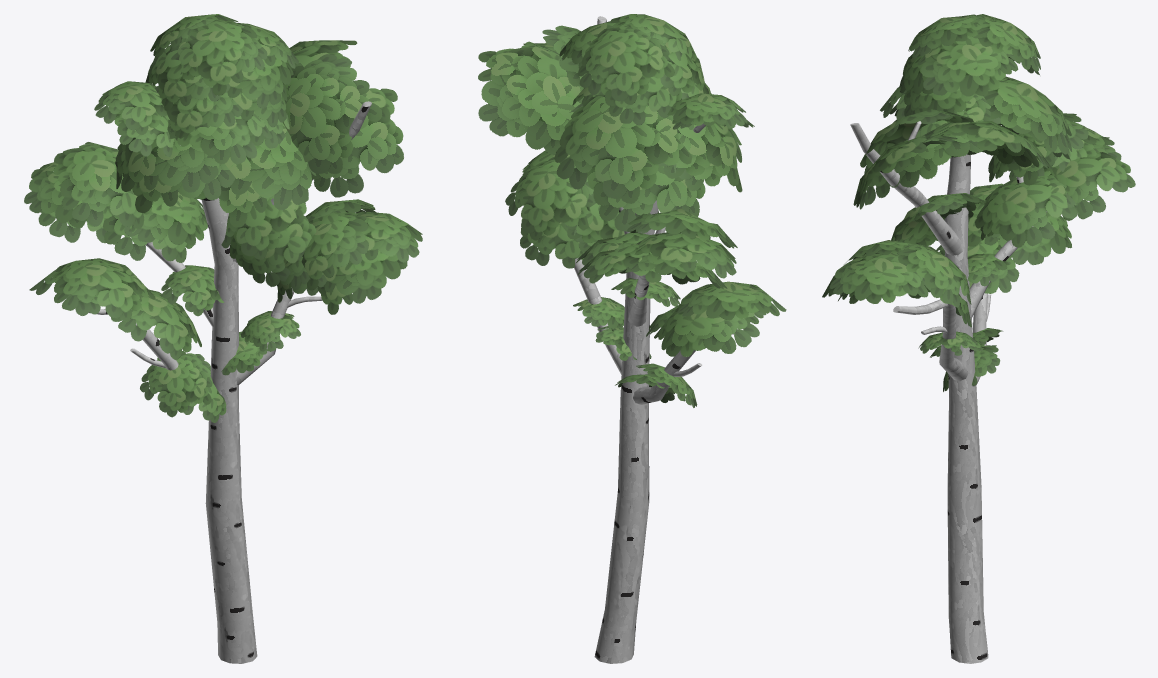
The model's file is tree_birch_1.glb.
The picture shows the model from 3 angles, left to right: view 1: azimuth 30°, elevation 25°; view 2: azimuth 150°, elevation 25°; view 3: azimuth 270°, elevation 25°; orthographic projection. The views are drawn at different scales.
Visible parts, largest first — view 1: Birch_1; view 2: Birch_1; view 3: Birch_1.
Boxes of the visible parts, x1,y1,x2,y2 form: Birch_1: (24,14,422,663); Birch_1: (478,14,786,663); Birch_1: (822,14,1135,663).
Size of the model in its own units: 3.87 by 7.5 by 3.53.
2 materials, 2 textured.
